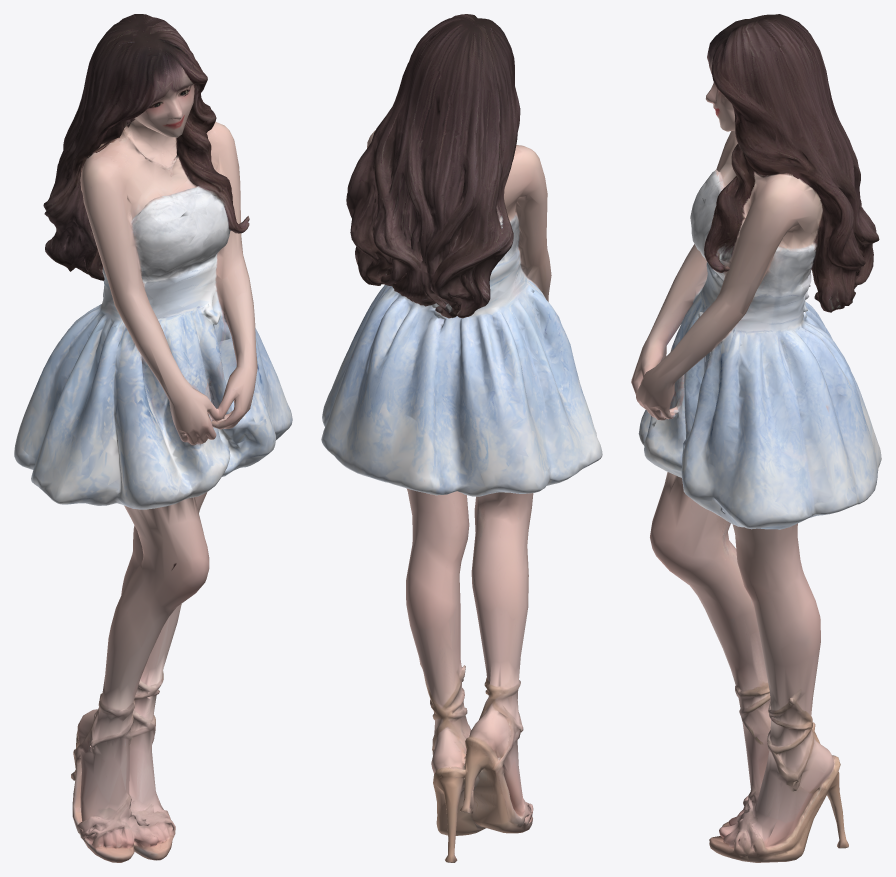
Rendered from BlueLace.glb.
3 renders of one model, left to right at view 1: azimuth 30°, elevation 25°; view 2: azimuth 150°, elevation 25°; view 3: azimuth 270°, elevation 25°, orthographic. The views are drawn at different scales.
Parts seen in each view (by area): view 1: BlueLace; view 2: BlueLace; view 3: BlueLace.
Part boxes in pixels (x1,y1,x2,y2): BlueLace: [14, 14, 292, 862]; BlueLace: [321, 14, 602, 862]; BlueLace: [631, 14, 881, 862].
Size of the model in its own units: 0.5527 by 1.7 by 0.4583.
1 material, 1 textured.
